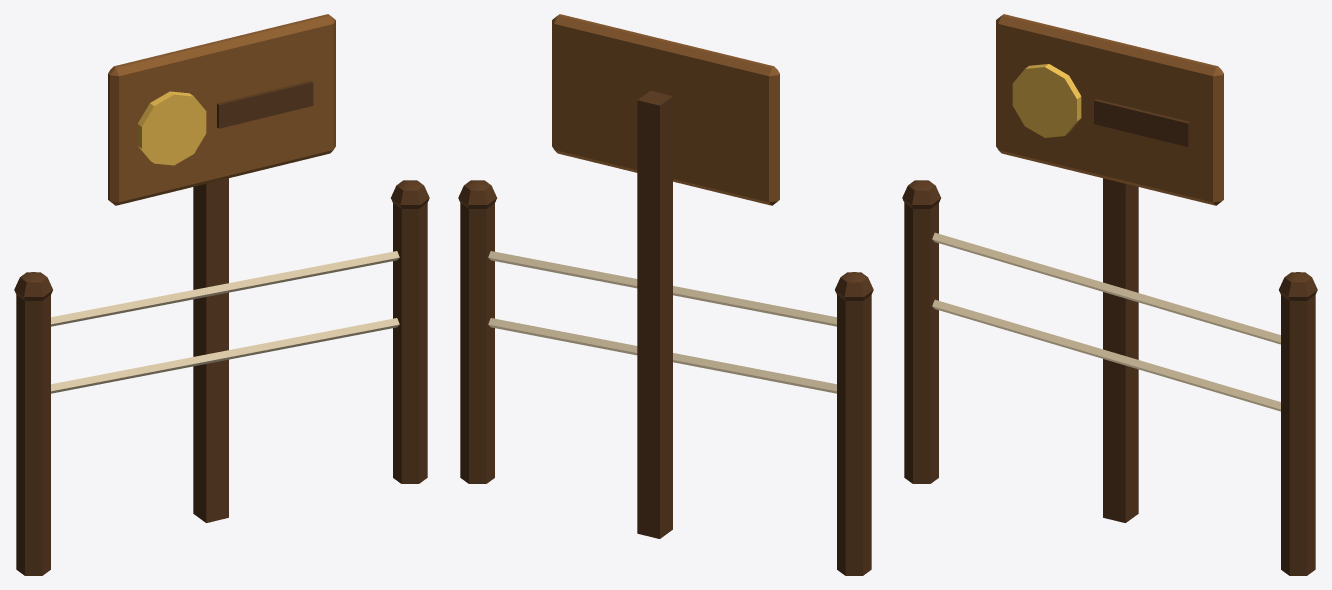
Rendered from PR_Building_Kilitli.fbx.
The picture shows the model from 3 angles, left to right: view 1: azimuth 30°, elevation 25°; view 2: azimuth 150°, elevation 25°; view 3: azimuth 330°, elevation 25°; orthographic projection.
Parts seen in each view (by area): view 1: PR_Building_Kilitli; view 2: PR_Building_Kilitli; view 3: PR_Building_Kilitli.
Part boxes in pixels (x1,y1,x2,y2): PR_Building_Kilitli: (14,14,429,575); PR_Building_Kilitli: (458,14,873,575); PR_Building_Kilitli: (902,14,1317,575).
Size of the model in its own units: 1.08 by 1.22 by 0.125.
1 material, 1 textured.
